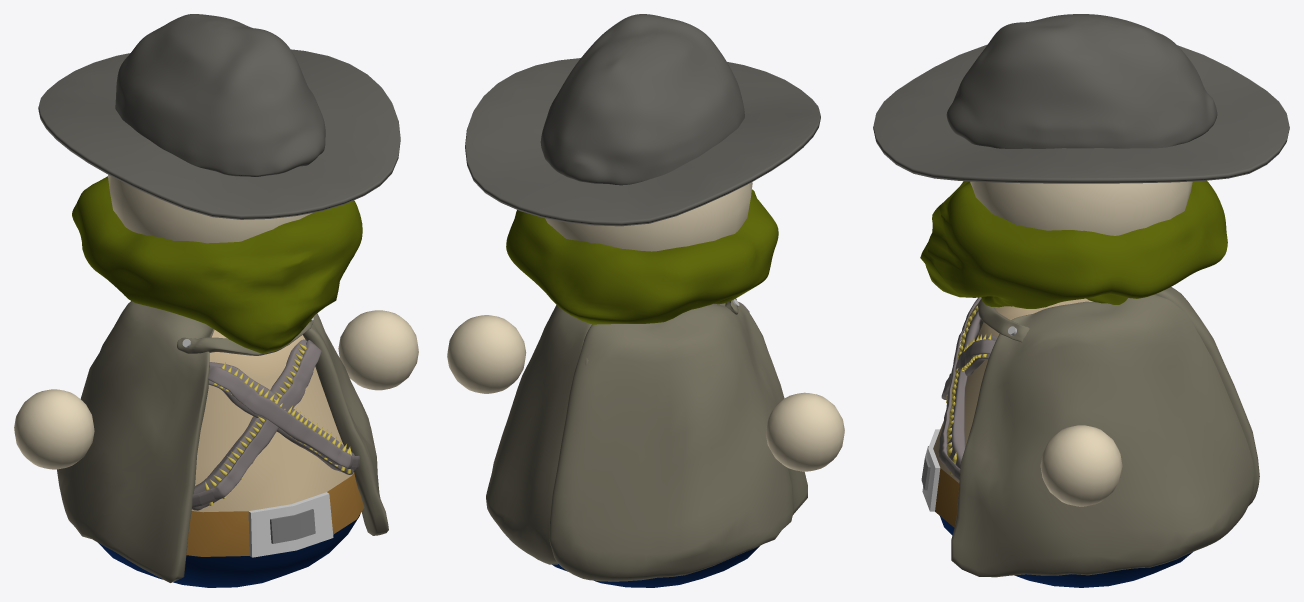
File: Bandit.fbx
3 views of the same model, side by side, from view 1: azimuth 30°, elevation 25°; view 2: azimuth 150°, elevation 25°; view 3: azimuth 270°, elevation 25° (orthographic). The views are drawn at different scales.
Visible parts, largest first — view 1: BanditTopHat, BanditJacket, NeckScarf, Body, BulletHolster, Head, Right_Hand, Left_Hand; view 2: BanditJacket, BanditTopHat, NeckScarf, Head, Right_Hand, Left_Hand, Body; view 3: BanditJacket, BanditTopHat, NeckScarf, Head, Body, Left_Hand, BulletHolster.
Part boxes in pixels (x1,y1,x2,y2): BanditTopHat: (38,14,400,219); BanditJacket: (57,301,388,582); NeckScarf: (72,176,362,353); Body: (98,329,364,587); BulletHolster: (192,339,359,510); Head: (108,175,312,243); Right_Hand: (14,389,94,469); Left_Hand: (338,310,418,390); BanditJacket: (486,298,807,581); BanditTopHat: (465,14,820,226); NeckScarf: (506,189,778,324); Head: (545,182,752,251); Right_Hand: (766,392,844,471); Left_Hand: (447,315,526,393); Body: (552,546,759,587); BanditJacket: (951,287,1259,577); BanditTopHat: (873,14,1289,183); NeckScarf: (920,180,1227,308); Head: (970,181,1192,235); Body: (921,298,1192,587); Left_Hand: (1040,425,1122,506); BulletHolster: (938,297,997,480).
Bounding box in the file's own units: 17.99 × 23.55 × 16.24.
